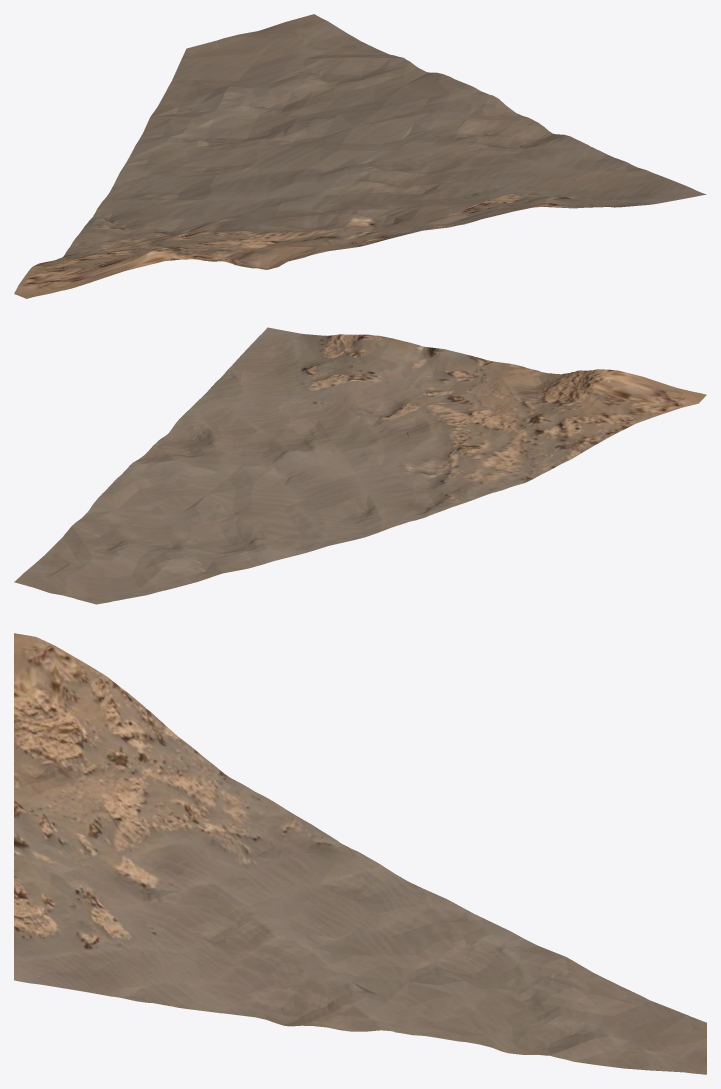
3 renders of one model, top to bottom at view 1: azimuth 30°, elevation 25°; view 2: azimuth 150°, elevation 25°; view 3: azimuth 270°, elevation 25°, orthographic. The views are drawn at different scales.
Bounding box in the file's own units: 8.36 × 2.07 × 8.36.
2 materials, 2 textured.
